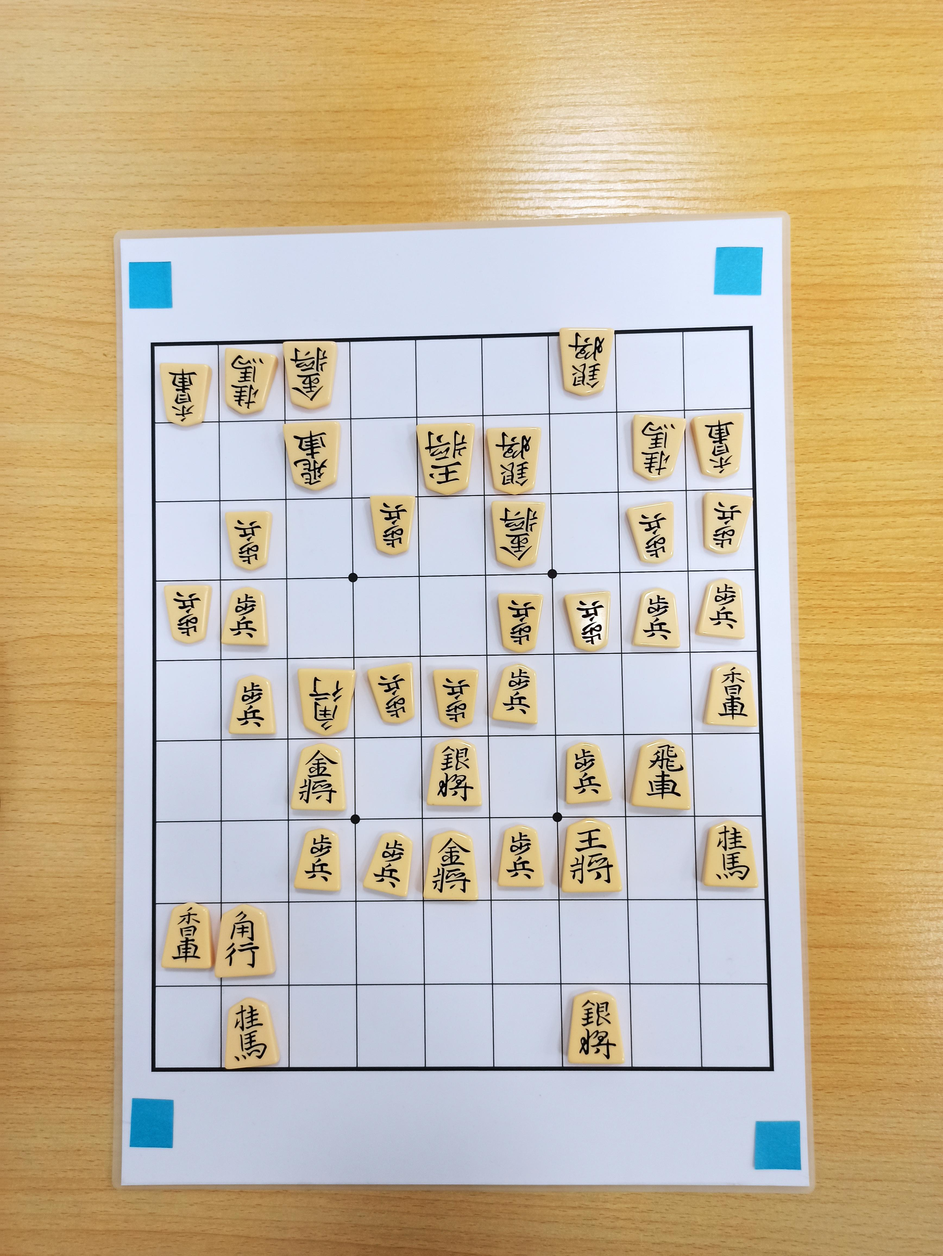board: (152, 328, 770, 1070)
